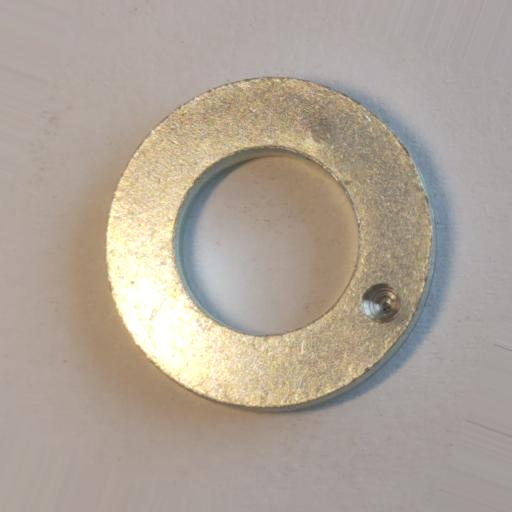circular_cavity: (360, 282, 402, 324)
